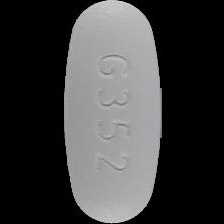51655-009: (0, 0, 224, 224)
